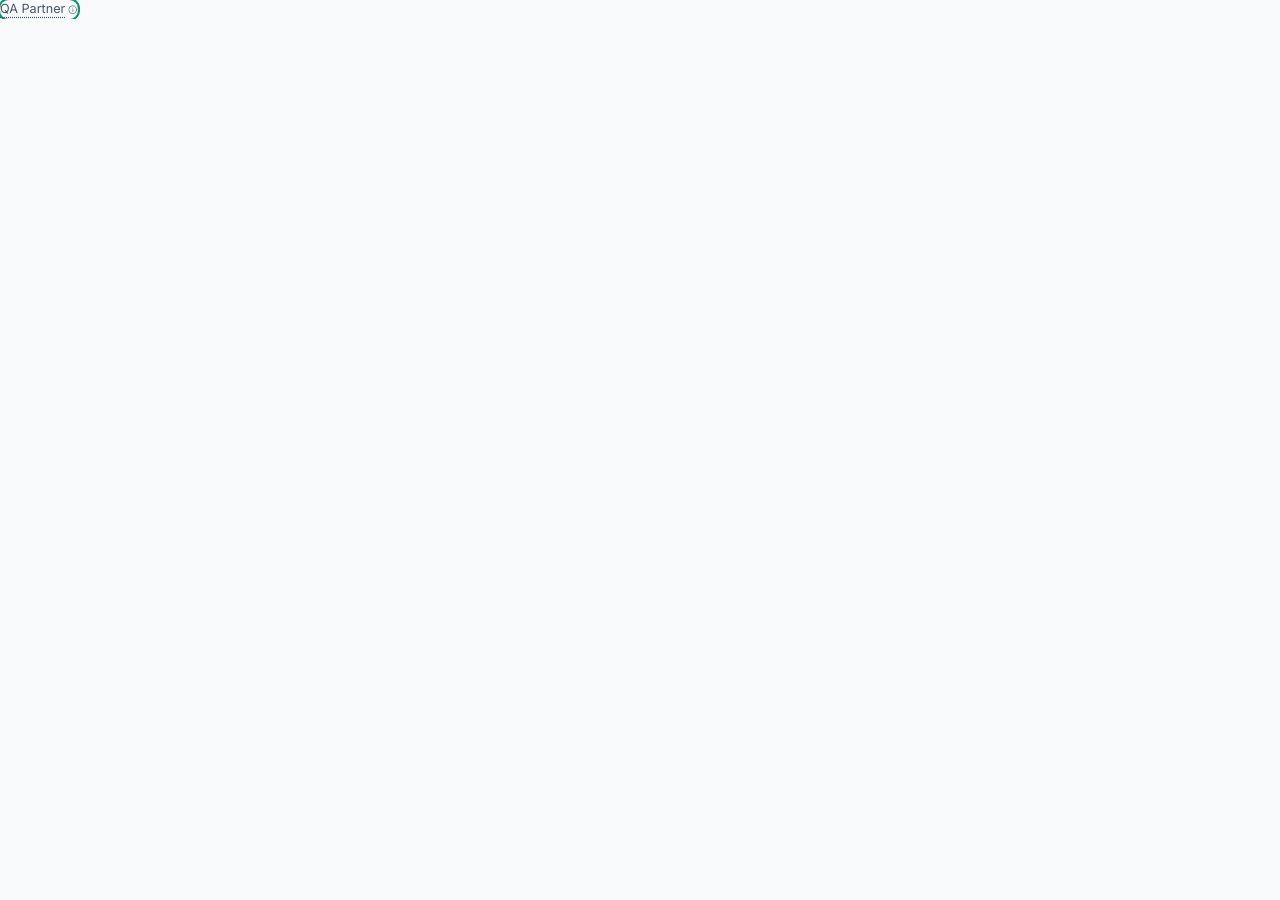
Test: read-only loan overview information › handles missing address, missing note and empty assets without inventing data
Later steps or results of the test are not shown.
Click the button at (39, 10), box left=0, top=0, right=78, bottom=19
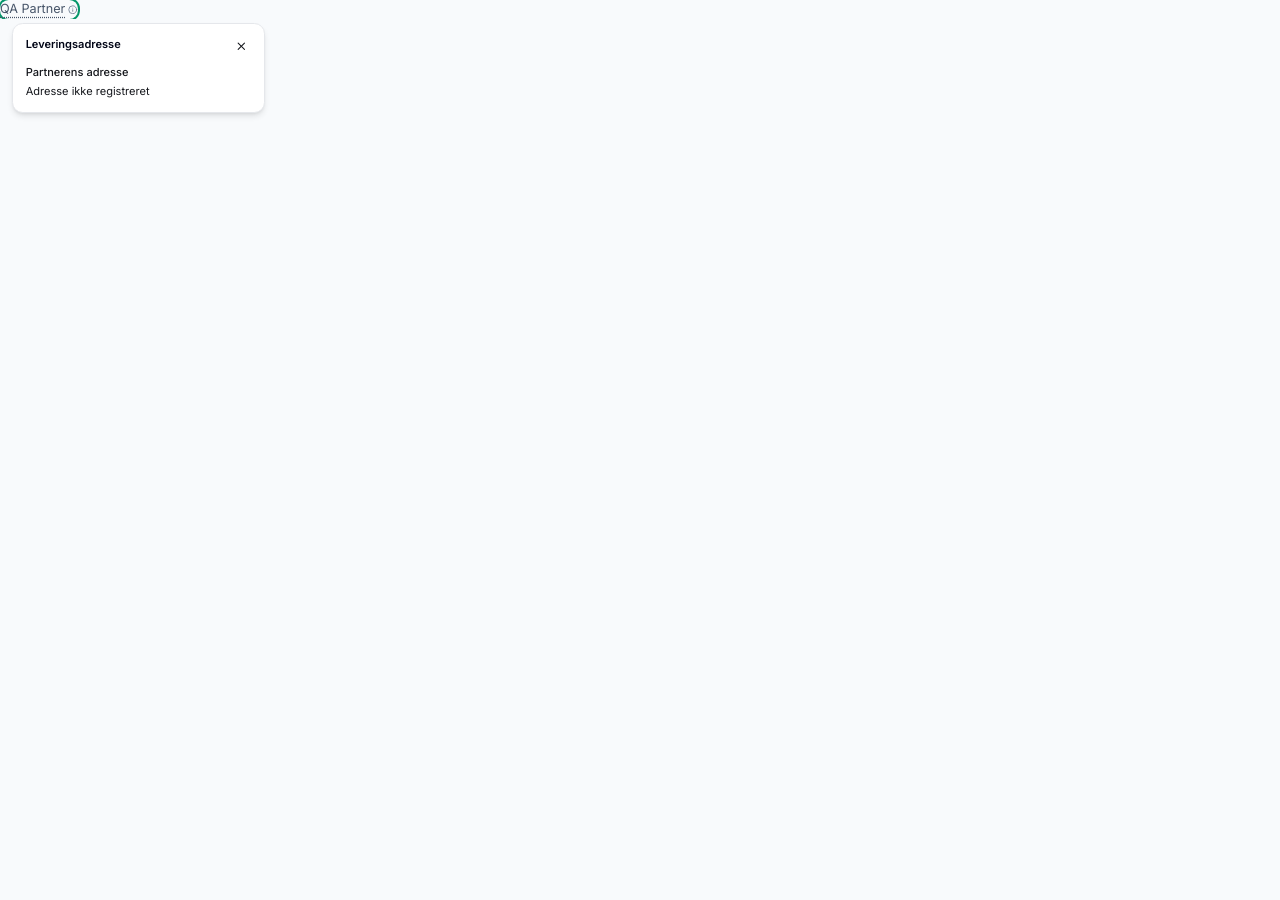
Result: the text "Adresse ikke registreret" is shown at left=26, top=84, right=150, bottom=98
